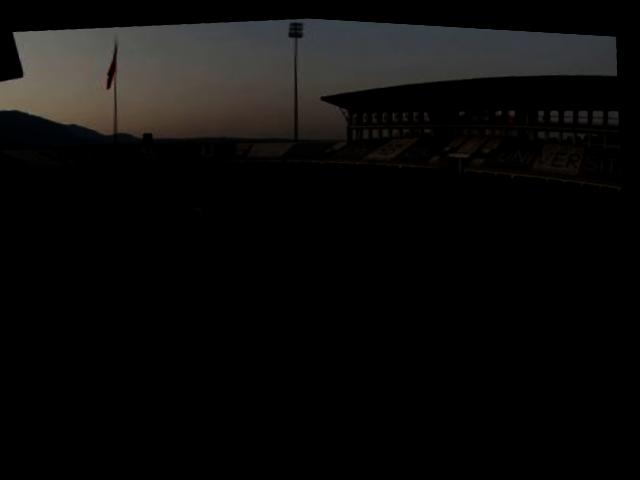uav: (171, 193, 236, 230)
